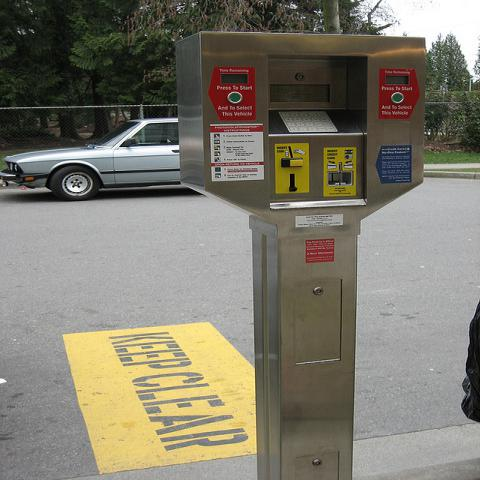car: (0, 117, 183, 202)
